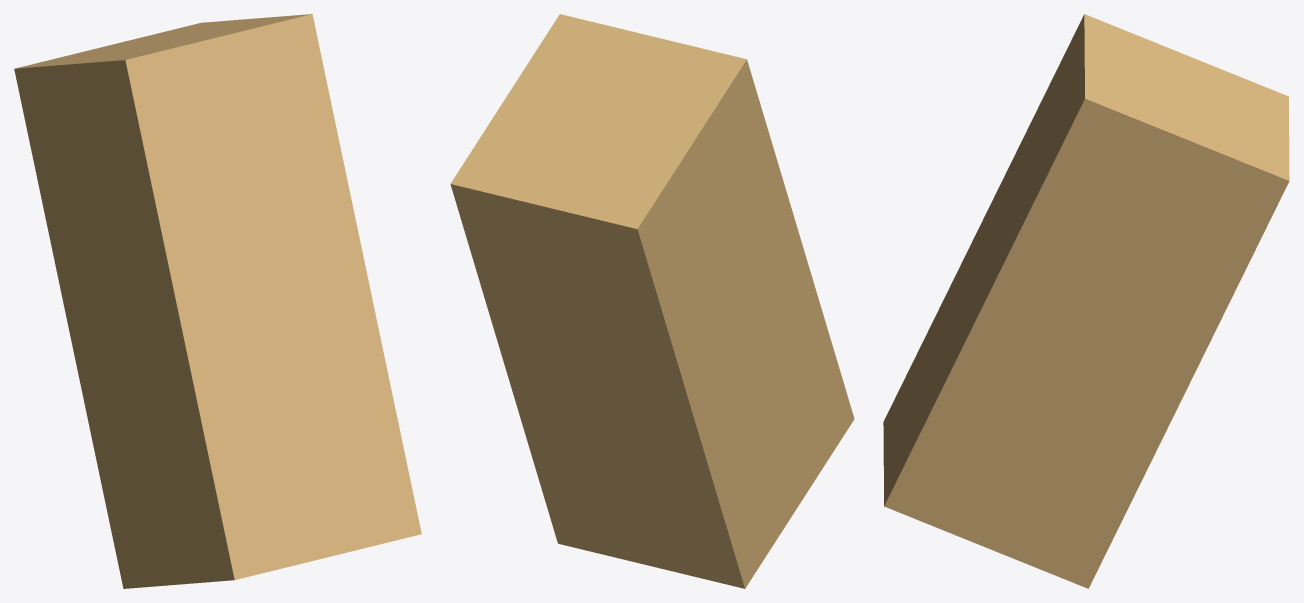
The picture shows the model from 3 angles, left to right: view 1: azimuth 30°, elevation 25°; view 2: azimuth 150°, elevation 25°; view 3: azimuth 270°, elevation 25°; orthographic projection. The views are drawn at different scales.
Visible parts, largest first — view 1: Cube; view 2: Cube; view 3: Cube.
Boxes of the visible parts, box(x1,y1,x2,y2) form: Cube: box(14, 14, 421, 588); Cube: box(450, 14, 854, 588); Cube: box(883, 14, 1289, 588).
Bounding box in the file's own units: 0.7963 × 2.14 × 1.6.
